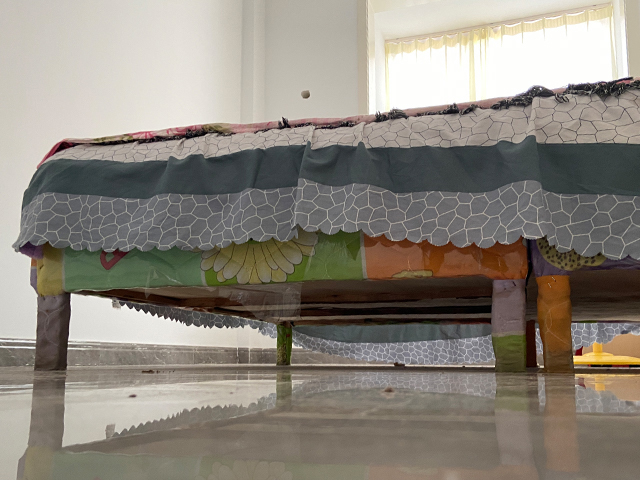bed: (10, 74, 640, 372)
